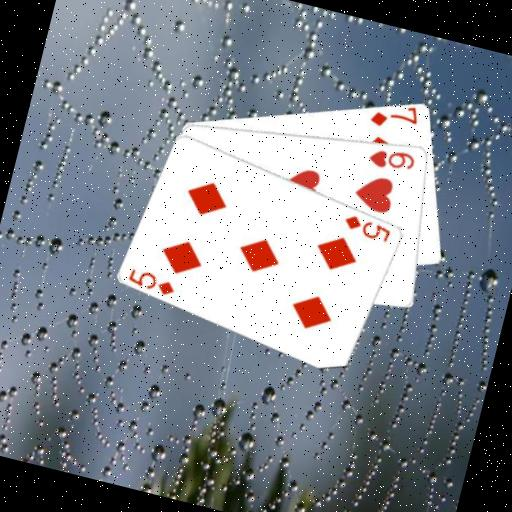5D: (339, 210, 395, 245), (124, 264, 180, 299)
6H: (364, 141, 419, 177)
7D: (366, 96, 423, 137)
